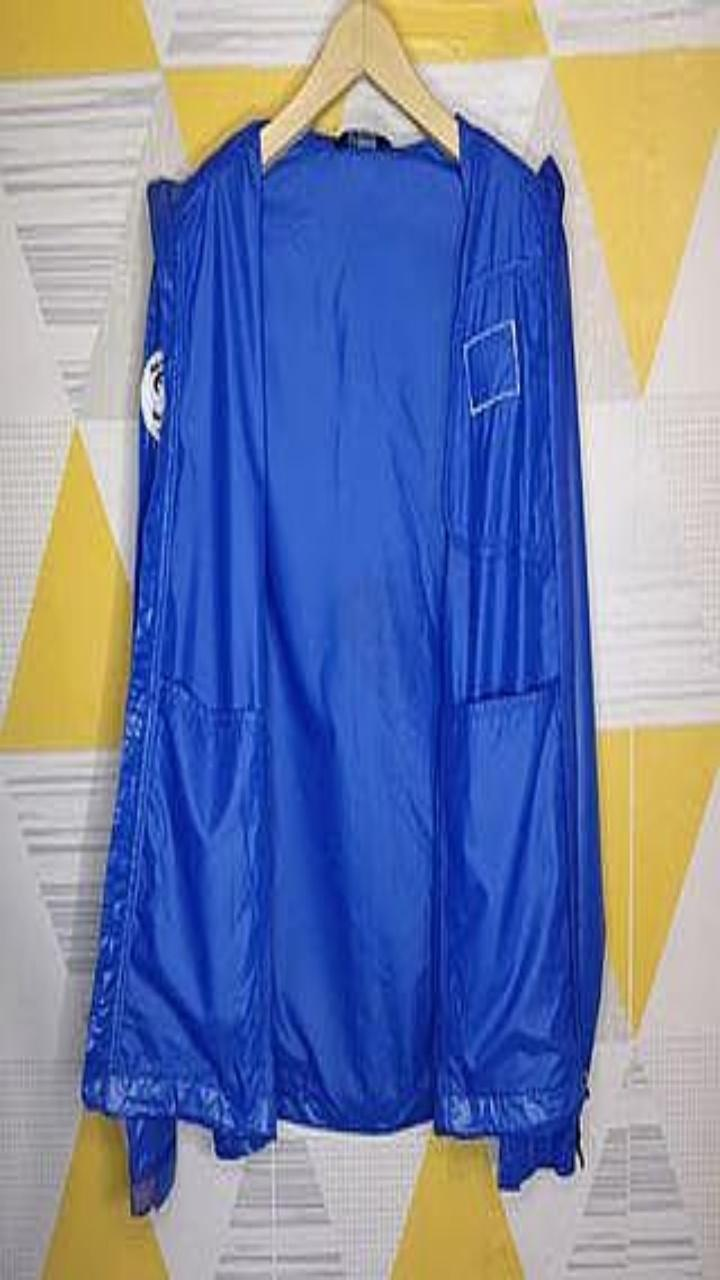Sports_Jacket: (82, 112, 604, 1213)
